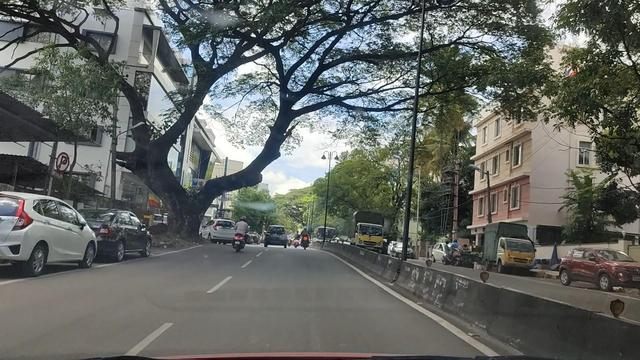LMV: (95, 212, 153, 263)
